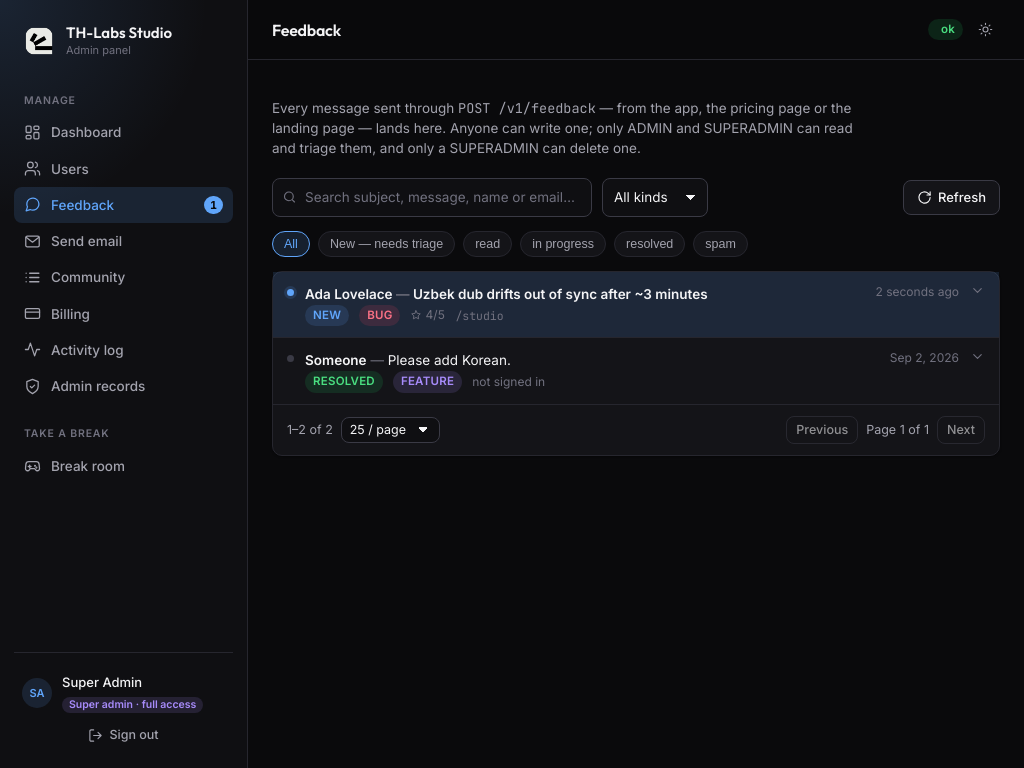
feedback inbox › does not present an anonymous sender email as verified
The image size is (1024, 768).
Step 1. Click the text "Someone — Please add Korean." → (336, 360), box [305,352,511,368]
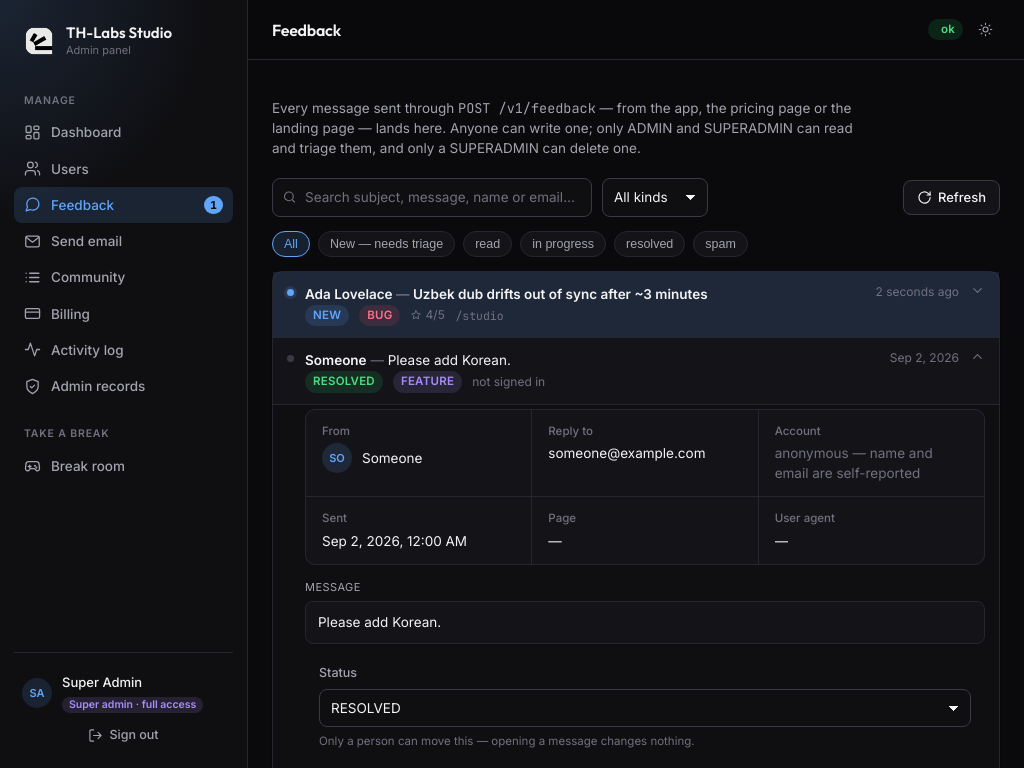
Check: the text "anonymous — name and email are self-reported" is shown, box [775,445,933,481]
